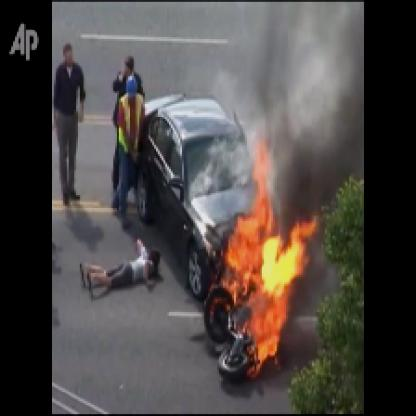Fire: (216, 126, 320, 381)
Smoke: (242, 2, 362, 182)
